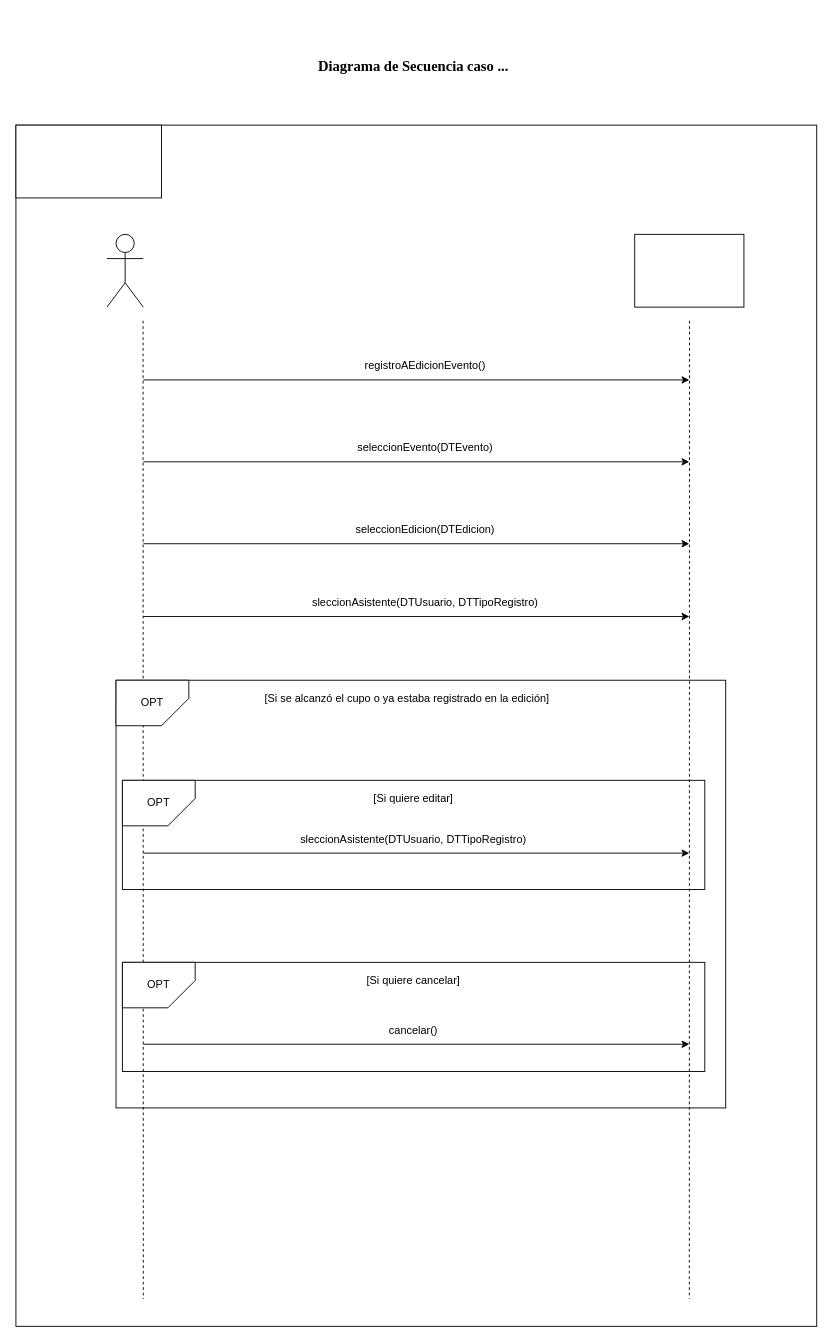
Some shapes in this 833 by 1342 pixel diagram are drawn without their labels. The centre of each missing label's shape, as x and y in pixels:
:SISTEMA: the point at 689,270
Registro a Edición de Evento: the point at 88,161
